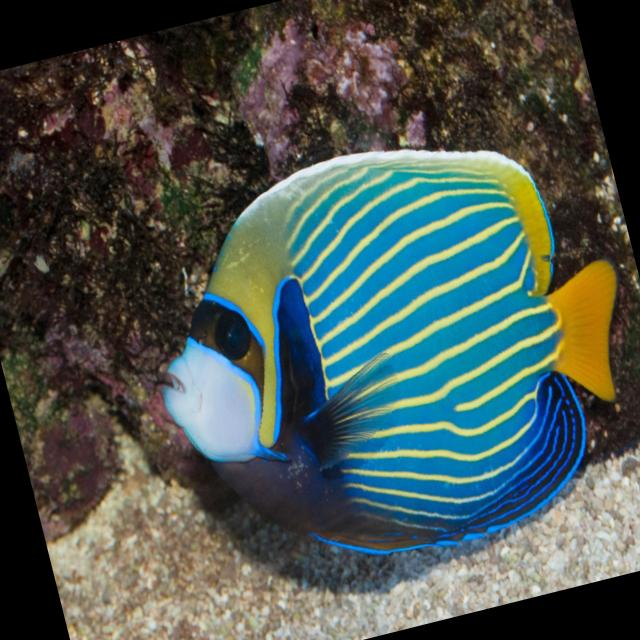AngelFish: (117, 100, 640, 609)
